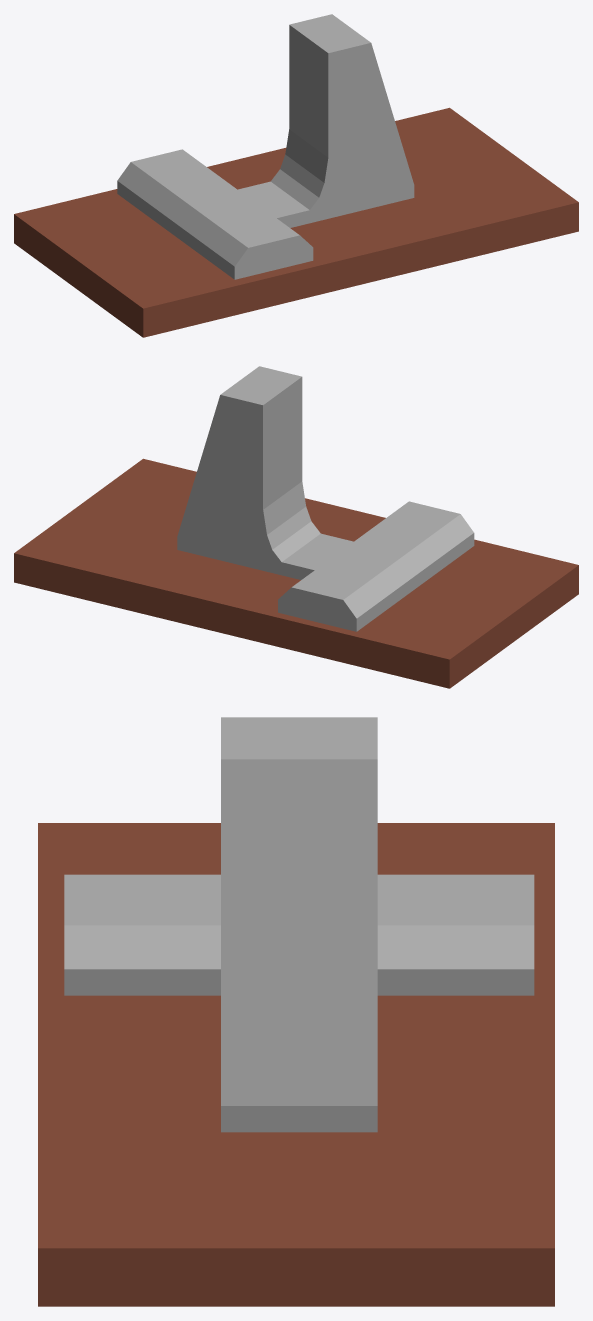
The model's file is watch repair kit-small.fbx.
3 views of the same model, one above another, from view 1: azimuth 30°, elevation 25°; view 2: azimuth 150°, elevation 25°; view 3: azimuth 270°, elevation 25° (orthographic). The views are drawn at different scales.
Parts seen in each view (by area): view 1: Cube.001, Cube.002; view 2: Cube.001, Cube.002; view 3: Cube.001, Cube.002.
Boxes of the visible parts, x1,y1,x2,y2 form: Cube.001: (14,107,578,337); Cube.002: (117,14,414,279); Cube.001: (14,458,578,688); Cube.002: (177,366,474,631); Cube.001: (38,823,554,1306); Cube.002: (64,717,534,1132).
Size of the model in its own units: 15.45 by 6.6 by 7.94.
